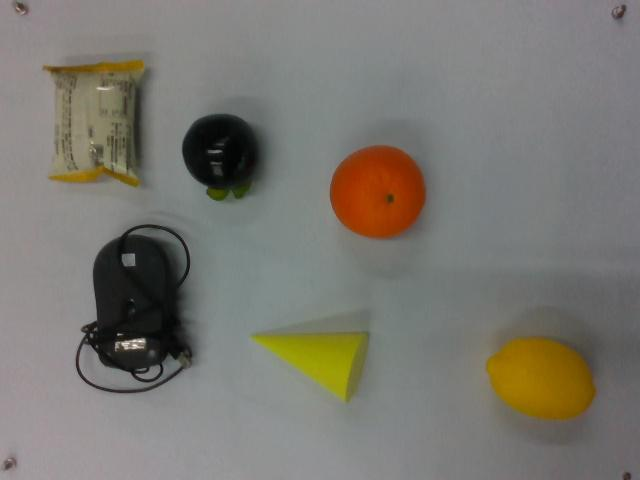cone: (249, 323, 373, 407)
dessert: (44, 56, 148, 193)
lemon: (486, 330, 598, 426)
mangosteen: (181, 110, 262, 205)
mouse: (76, 222, 198, 394)
orange: (328, 143, 426, 238)
